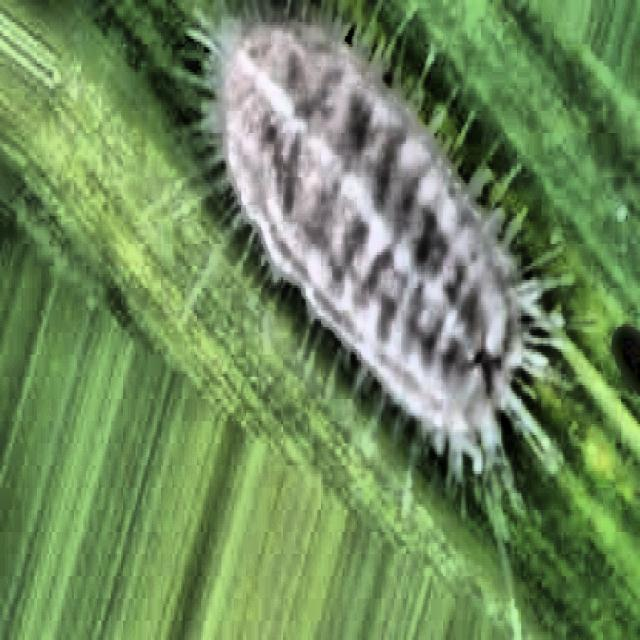Mealy-bug: (158, 0, 592, 493)
